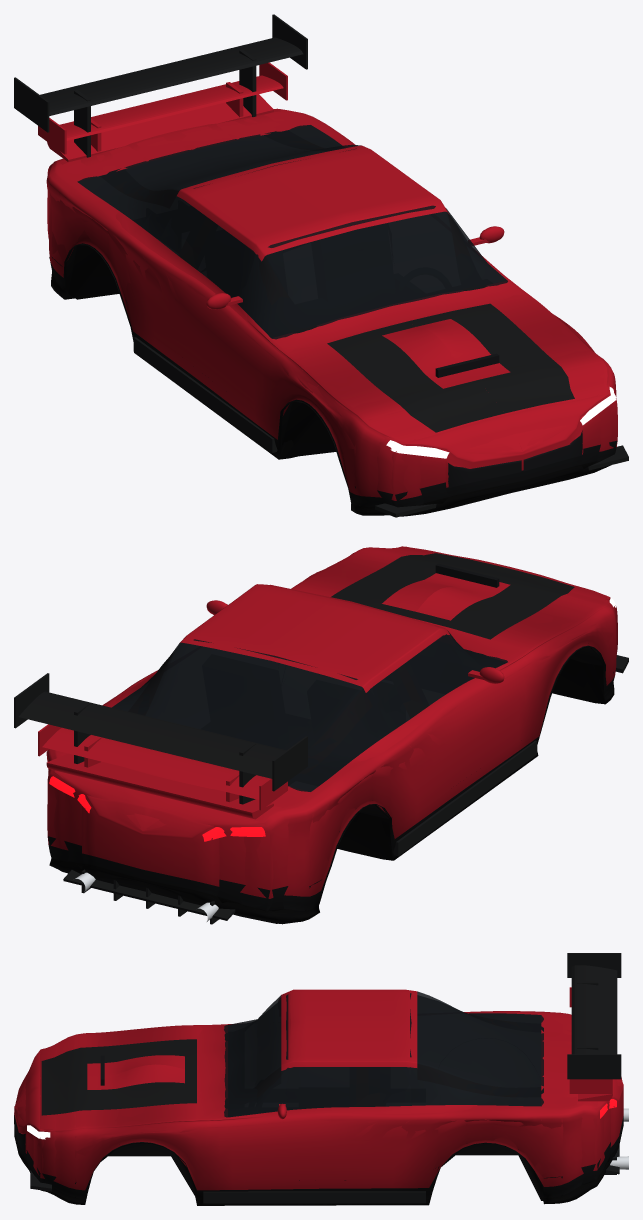
Rendered from sr_toyota_supra_mk4.glb.
3 renders of one model, top to bottom at view 1: azimuth 30°, elevation 25°; view 2: azimuth 150°, elevation 25°; view 3: azimuth 270°, elevation 25°, orthographic. The views are drawn at different scales.
Parts seen in each view (by area): view 1: body (×2), hood_3, spoiler_3, spoiler_2, hood_1, spoiler_1, bumper_1, grille, mirrors, headlights, hood_1_intake; view 2: body (×2), spoiler_3, hood_3, spoiler_2, bumper_1, spoiler_1, hood_1, taillights, hood_1_intake, mirrors; view 3: body (×2), hood_3, spoiler_3, bumper_1, hood_1, spoiler_2.
Boxes of the visible parts, left/top/right/bottom form: body (×2): left=46, top=108, right=617, bottom=516; hood_3: left=327, top=303, right=574, bottom=432; spoiler_3: left=14, top=14, right=307, bottom=157; spoiler_2: left=38, top=62, right=287, bottom=154; hood_1: left=382, top=319, right=510, bottom=388; spoiler_1: left=47, top=94, right=273, bottom=162; bumper_1: left=133, top=337, right=628, bottom=517; grille: left=448, top=430, right=582, bottom=488; mirrors: left=206, top=226, right=504, bottom=309; headlights: left=386, top=387, right=616, bottom=458; hood_1_intake: left=435, top=353, right=499, bottom=377; body (×2): left=46, top=546, right=617, bottom=924; spoiler_3: left=14, top=673, right=307, bottom=804; hood_3: left=331, top=553, right=574, bottom=639; spoiler_2: left=38, top=724, right=287, bottom=810; bumper_1: left=63, top=655, right=628, bottom=924; spoiler_1: left=46, top=753, right=273, bottom=819; hood_1: left=382, top=573, right=510, bottom=620; taillights: left=49, top=776, right=265, bottom=841; hood_1_intake: left=435, top=563, right=499, bottom=587; mirrors: left=206, top=600, right=504, bottom=683; body (×2): left=14, top=989, right=623, bottom=1205; hood_3: left=41, top=1039, right=196, bottom=1115; spoiler_3: left=567, top=953, right=621, bottom=1079; bumper_1: left=30, top=1145, right=619, bottom=1203; hood_1: left=87, top=1055, right=184, bottom=1089; spoiler_2: left=569, top=987, right=612, bottom=1093.
Size of the model in its own units: 2.04 by 1.25 by 4.56.
